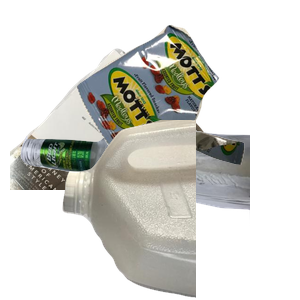glass: (18, 124, 258, 300)
paper: (10, 46, 250, 226)
plastic: (60, 120, 300, 300)
trash: (74, 22, 300, 185)
